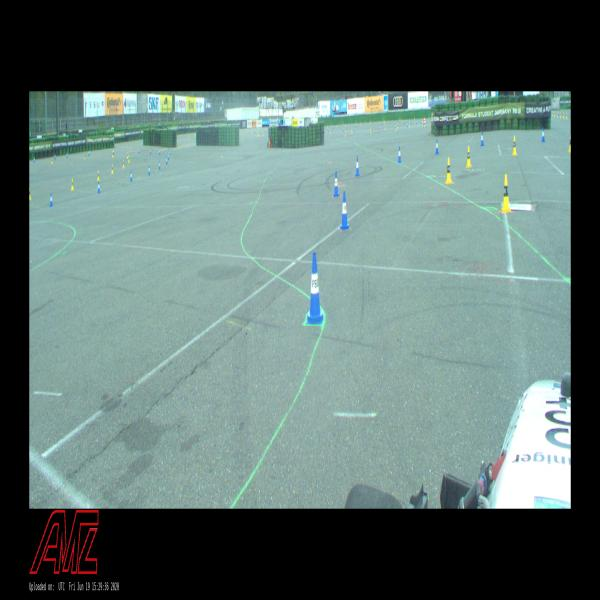blue_cone: (306, 252, 324, 324), (340, 191, 350, 230), (333, 171, 340, 197), (356, 157, 360, 176), (398, 146, 402, 163), (435, 139, 439, 154), (541, 127, 545, 142), (481, 131, 484, 146), (50, 193, 53, 207), (130, 171, 133, 181), (148, 166, 151, 176), (98, 181, 100, 193), (159, 160, 161, 170)
yellow_cone: (501, 174, 511, 213), (445, 157, 452, 184), (512, 136, 518, 155), (466, 146, 471, 168), (568, 134, 571, 153), (29, 187, 32, 200), (71, 178, 74, 189), (97, 170, 100, 181), (112, 164, 114, 174), (123, 160, 125, 168), (128, 156, 130, 163)
